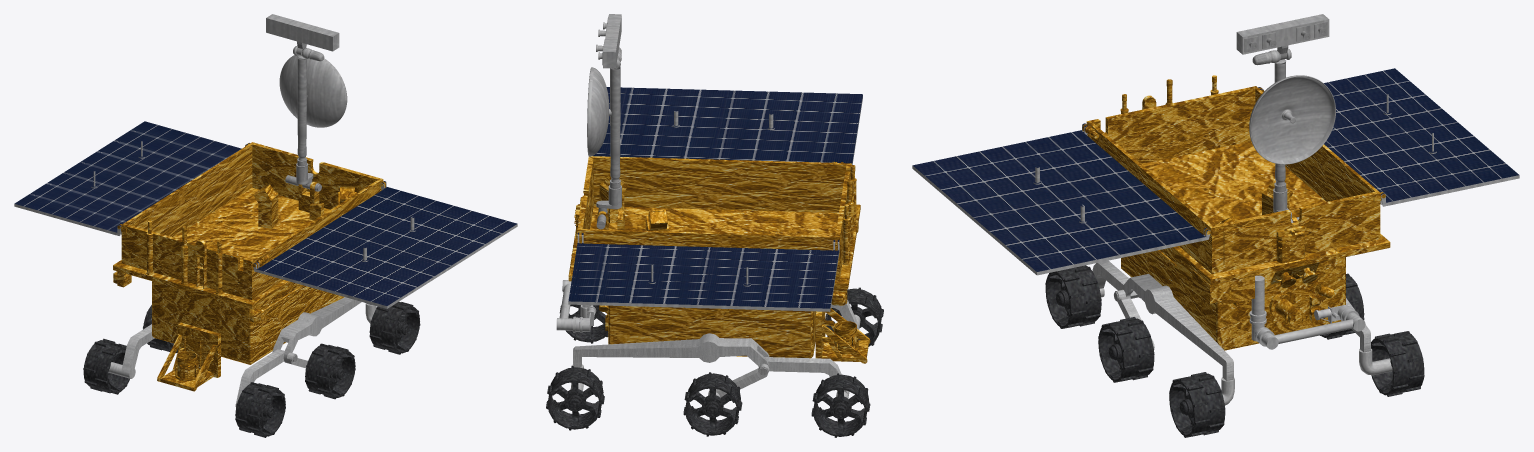
File: 月球车_写实贴图.glb
The picture shows the model from 3 angles, left to right: view 1: azimuth 30°, elevation 25°; view 2: azimuth 150°, elevation 25°; view 3: azimuth 270°, elevation 25°; orthographic projection. The views are drawn at different scales.
Parts seen in each view (by area): view 1: polySurface155, polySurface137, polySurface131, polySurface162, polySurface135, polySurface109, polySurface110, polySurface108, polySurface117, polySurface106, polySurface116 (×2), polySurface115 (+1 smaller); view 2: polySurface155, polySurface137, polySurface131, polySurface162, polySurface117, polySurface135, polySurface107, polySurface105, polySurface106, polySurface110, polySurface116, polySurface115 (+3 smaller); view 3: polySurface155, polySurface137, polySurface131, polySurface162, polySurface135, polySurface117, polySurface109, polySurface108, polySurface110, polySurface107, polySurface115, polySurface72 (+4 smaller).
Boxes of the visible parts, box(x1,y1,x2,y2) form: polySurface155: box(113, 142, 385, 322); polySurface137: box(253, 181, 517, 308); polySurface131: box(14, 121, 250, 235); polySurface162: box(152, 281, 344, 391); polySurface135: box(279, 46, 347, 160); polySurface109: box(305, 343, 355, 399); polySurface110: box(235, 382, 285, 437); polySurface108: box(369, 301, 420, 354); polySurface117: box(272, 297, 371, 368); polySurface106: box(83, 338, 129, 394); polySurface116 (×2): box(108, 324, 284, 406); polySurface115: box(266, 14, 339, 55); polySurface155: box(568, 156, 860, 305); polySurface137: box(593, 87, 862, 164); polySurface131: box(568, 232, 839, 311); polySurface162: box(571, 245, 870, 363); polySurface117: box(573, 333, 769, 397); polySurface135: box(587, 47, 621, 182); polySurface107: box(546, 366, 604, 430); polySurface105: box(683, 372, 742, 436); polySurface106: box(811, 373, 870, 437); polySurface110: box(825, 287, 883, 346); polySurface116: box(764, 357, 849, 398); polySurface115: box(596, 14, 621, 68); polySurface155: box(1082, 75, 1390, 284); polySurface137: box(912, 123, 1210, 275); polySurface131: box(1258, 68, 1519, 206); polySurface162: box(1121, 248, 1345, 350); polySurface135: box(1249, 48, 1335, 185); polySurface117: box(1114, 273, 1233, 380); polySurface109: box(1098, 317, 1154, 382); polySurface108: box(1169, 372, 1225, 437); polySurface110: box(1045, 265, 1101, 328); polySurface107: box(1371, 331, 1424, 396); polySurface115: box(1236, 14, 1329, 59); polySurface72: box(1261, 307, 1365, 349).
Size of the model in its own units: 701 by 590 by 867.
Materials: 4 (4 with a texture image).
